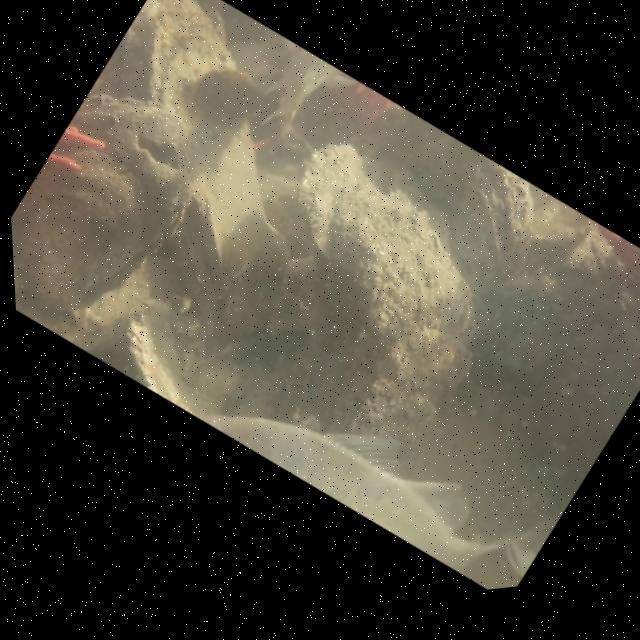Oyster-Closed: (289, 133, 489, 469), (11, 94, 197, 324)
